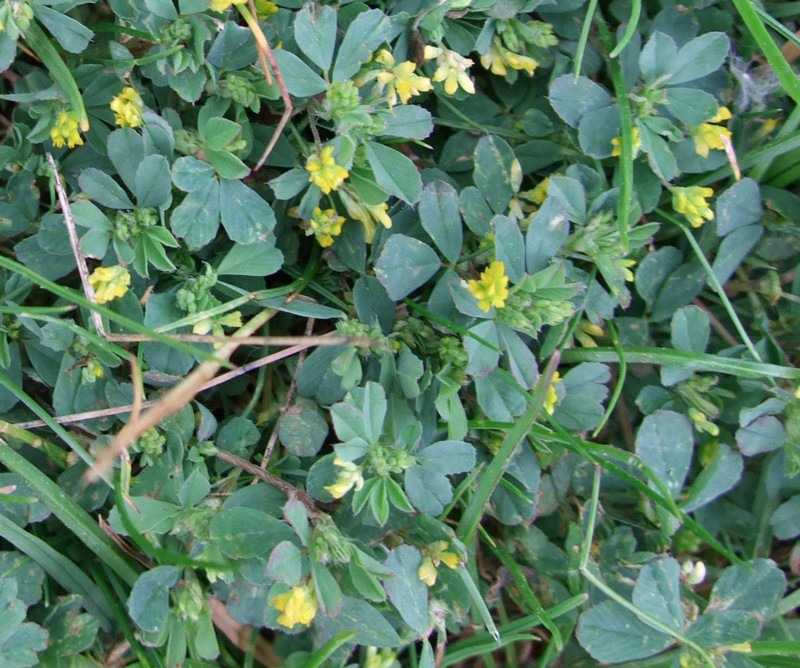clover: (7, 8, 798, 666)
